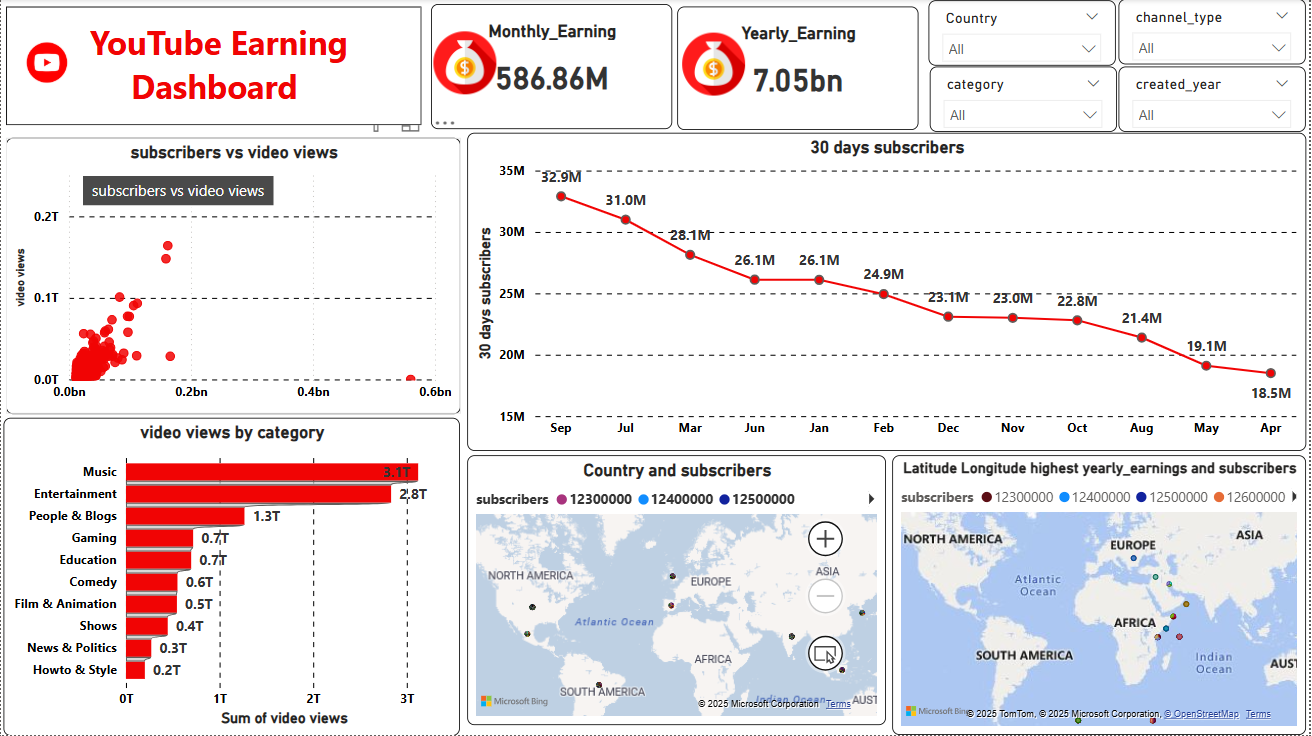

The dashboard page shown, as its layout file describes it:
{"tool":"powerbi","page":{"name":"Page 1","canvas":[1280,720],"ordinal":0},"visuals":[{"type":"barChart","title":"video views by category","fields":{"Category":["Cleaned_YouTube_Statistics.category"],"Y":["Sum(Cleaned_YouTube_Statistics.video views)"]},"box":[2.5,409,446.1,311.4],"z":0},{"type":"map","fields":{"Category":["Cleaned_YouTube_Statistics.Country"],"Series":["Cleaned_YouTube_Statistics.subscribers"]},"box":[456.1,446.3,409.6,264.1],"z":1000},{"type":"lineChart","title":"30 days subscribers","fields":{"Category":["Cleaned_YouTube_Statistics.created_month"],"Y":["Sum(Cleaned_YouTube_Statistics.subscribers_for_last_30_days)"]},"box":[456,131,820.5,311.4],"z":2000},{"type":"scatterChart","title":"subscribers vs video views","fields":{"X":["Sum(Cleaned_YouTube_Statistics.subscribers)"],"Y":["Cleaned_YouTube_Statistics.video views"]},"box":[4.9,135.9,444.9,270.6],"z":3000},{"type":"map","title":"Latitude Longitude highest yearly_earnings and subscribers","fields":{"Series":["Cleaned_YouTube_Statistics.subscribers"],"Y":["Sum(Cleaned_YouTube_Statistics.Longitude)"],"X":["Sum(Cleaned_YouTube_Statistics.Latitude)"],"Category":["Cleaned_YouTube_Statistics.highest_yearly_earnings"]},"box":[871.9,446.1,404.8,273.9],"z":4000},{"type":"slicer","fields":{"Values":["Cleaned_YouTube_Statistics.Country"]},"box":[907.1,1.2,182.9,64.3],"z":5000},{"type":"slicer","fields":{"Values":["Cleaned_YouTube_Statistics.category"]},"box":[908.3,65.5,182.9,64.3],"z":6000},{"type":"slicer","fields":{"Values":["Cleaned_YouTube_Statistics.channel_type"]},"box":[1093.7,0,182.9,64.3],"z":7000},{"type":"slicer","fields":{"Values":["Cleaned_YouTube_Statistics.created_year"]},"box":[1093.7,65.5,182.9,64.3],"z":8000},{"type":"card","title":"Yearly_Earning","fields":{"Values":["Sum(Cleaned_YouTube_Statistics.highest_yearly_earnings)"]},"box":[661.1,7.4,236,121.1],"z":9000},{"type":"card","title":"Monthly_Earning","fields":{"Values":["Sum(Cleaned_YouTube_Statistics.highest_monthly_earnings)"]},"box":[420.2,4.9,236,122.3],"z":10000},{"type":"image","box":[661.1,26,71.7,76.6],"z":11000},{"type":"image","box":[417.7,24.7,71.7,76.6],"z":12000},{"type":"shape","box":[4.9,7.4,406.6,116.2],"z":13000},{"type":"textbox","box":[14.8,16.1,388,97.6],"z":13500},{"type":"image","box":[7.4,8.7,75.4,107.5],"z":14000}]}

Visuals, with their boxes in screenshot pixels (x1, y1, x2, y2), scaled from the page's 1280x720 canvas onto the 1312x736 screenshot:
"video views by category" barChart: 3 418 460 735
map - Cleaned_YouTube_Statistics.Country x Cleaned_YouTube_Statistics.subscribers: 468 456 887 726
"30 days subscribers" lineChart: 467 134 1308 452
"subscribers vs video views" scatterChart: 5 139 461 416
"Latitude Longitude highest yearly_earnings and subscribers" map: 894 456 1309 735
slicer - Cleaned_YouTube_Statistics.Country: 930 1 1117 67
slicer - Cleaned_YouTube_Statistics.category: 931 67 1118 133
slicer - Cleaned_YouTube_Statistics.channel_type: 1121 0 1309 66
slicer - Cleaned_YouTube_Statistics.created_year: 1121 67 1309 133
"Yearly_Earning" card: 678 8 920 131
"Monthly_Earning" card: 431 5 673 130
image: 678 27 751 105
image: 428 25 502 104
shape: 5 8 422 126
textbox: 15 16 413 116
image: 8 9 85 119
